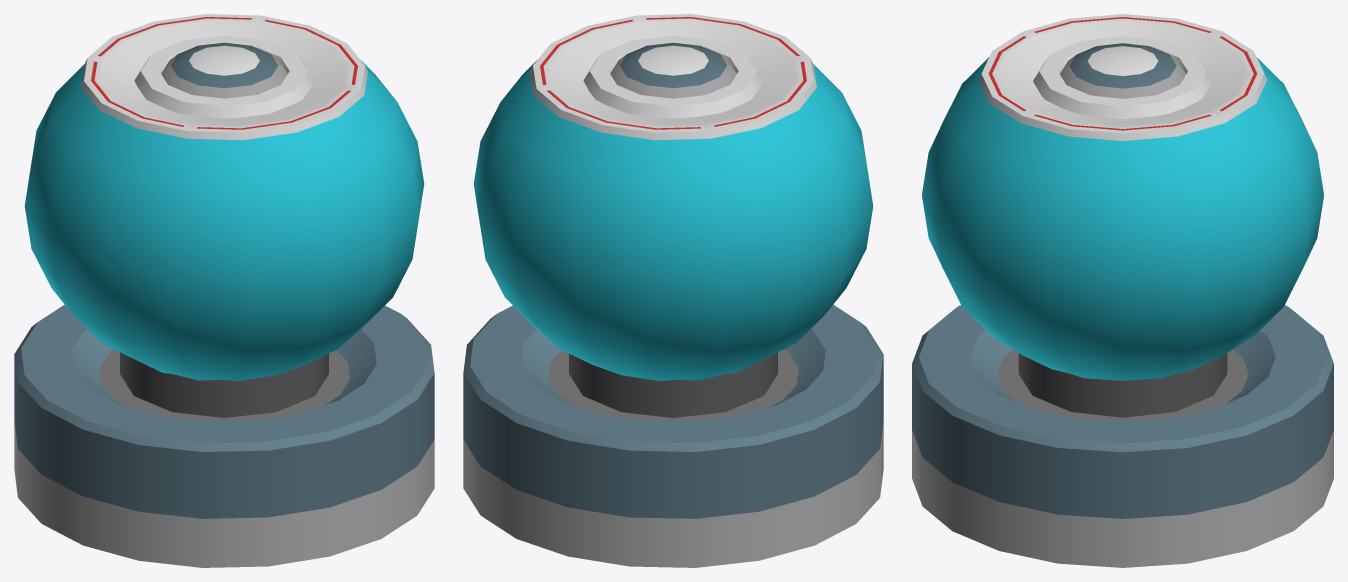
Rendered from spherical_building_004.fbx.
3 renders of one model, left to right at view 1: azimuth 30°, elevation 25°; view 2: azimuth 150°, elevation 25°; view 3: azimuth 270°, elevation 25°, orthographic.
Visible parts, largest first — view 1: spherical_building_004; view 2: spherical_building_004; view 3: spherical_building_004.
Part boxes in pixels (left/top/right/bottom): spherical_building_004: left=14, top=14, right=434, bottom=567; spherical_building_004: left=463, top=14, right=883, bottom=567; spherical_building_004: left=912, top=14, right=1333, bottom=567.
Size of the model in its own units: 983 by 983 by 1082.
